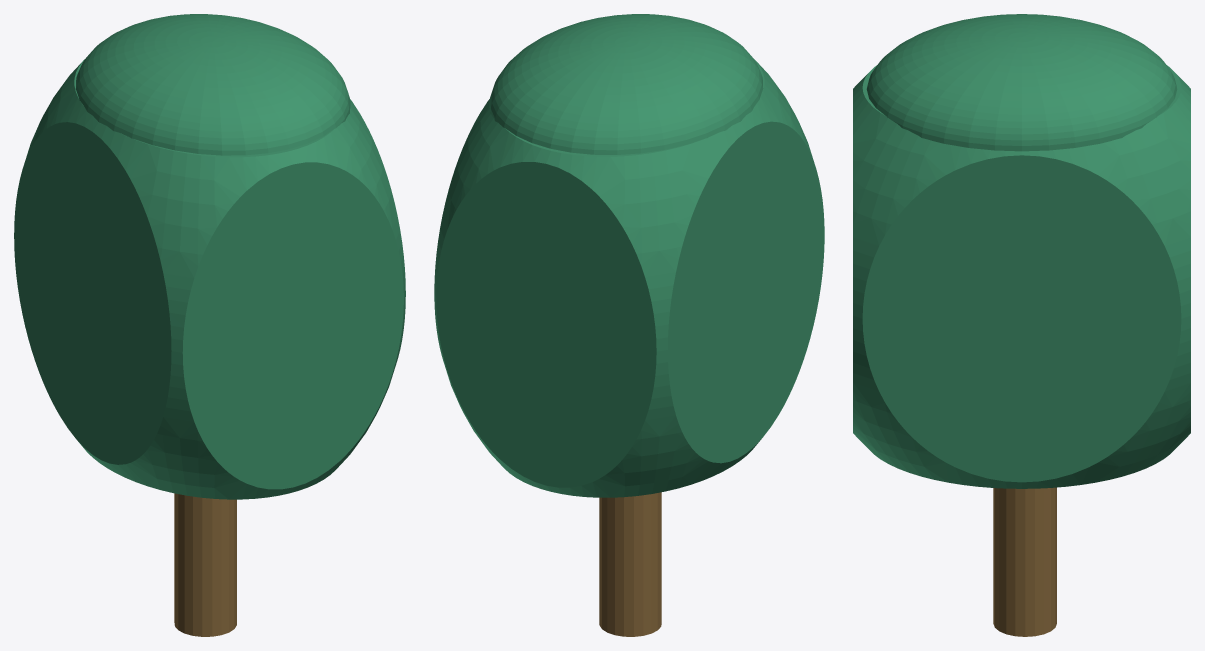
File: Robs_tree1.glb
3 views of the same model, side by side, from view 1: azimuth 30°, elevation 25°; view 2: azimuth 150°, elevation 25°; view 3: azimuth 270°, elevation 25° (orthographic).
Visible parts, largest first — view 1: Mesh_Mesh_head_geo.001_lambert2SG.001; view 2: Mesh_Mesh_head_geo.001_lambert2SG.001; view 3: Mesh_Mesh_head_geo.001_lambert2SG.001.
Part boxes in pixels (<box>): Mesh_Mesh_head_geo.001_lambert2SG.001: <box>14,14,405,636</box>; Mesh_Mesh_head_geo.001_lambert2SG.001: <box>434,14,824,636</box>; Mesh_Mesh_head_geo.001_lambert2SG.001: <box>853,14,1190,636</box>.
Bounding box in the file's own units: 43 × 102 × 53.
